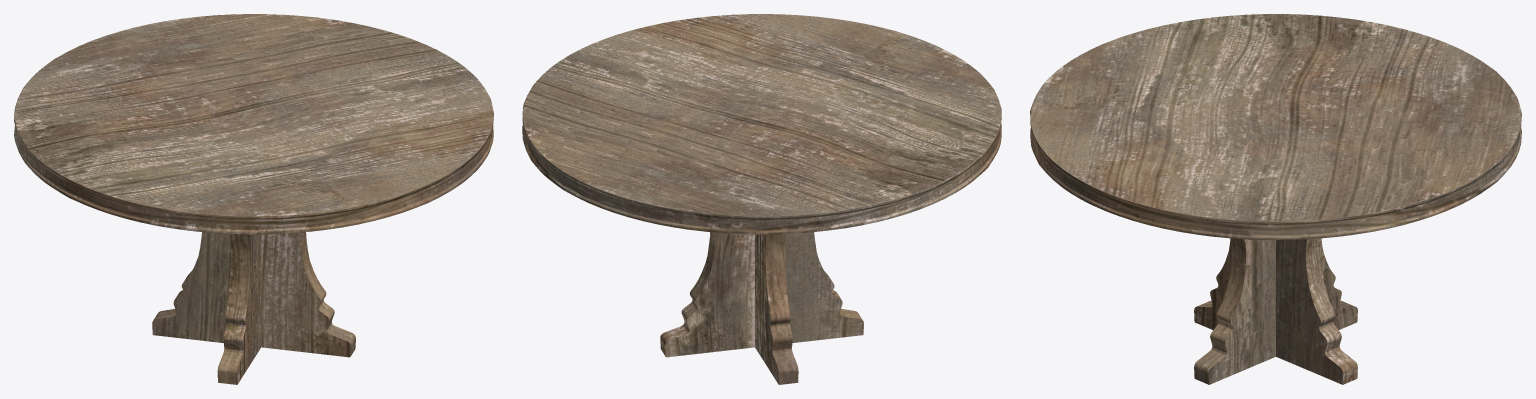
Rendered from SM_Round_SM_Table_Round.fbx.
3 renders of one model, left to right at view 1: azimuth 30°, elevation 25°; view 2: azimuth 150°, elevation 25°; view 3: azimuth 270°, elevation 25°, orthographic. The views are drawn at different scales.
Parts seen in each view (by area): view 1: SM_Round_SM_Table_Round_LOD0; view 2: SM_Round_SM_Table_Round_LOD0; view 3: SM_Round_SM_Table_Round_LOD0.
Part boxes in pixels (x1=…): SM_Round_SM_Table_Round_LOD0: x1=14, y1=14, x2=493, y2=384; SM_Round_SM_Table_Round_LOD0: x1=522, y1=14, x2=1001, y2=384; SM_Round_SM_Table_Round_LOD0: x1=1030, y1=14, x2=1521, y2=384.
Bounding box in the file's own units: 152 × 152 × 79.57.
Materials: 1 (1 with a texture image).
